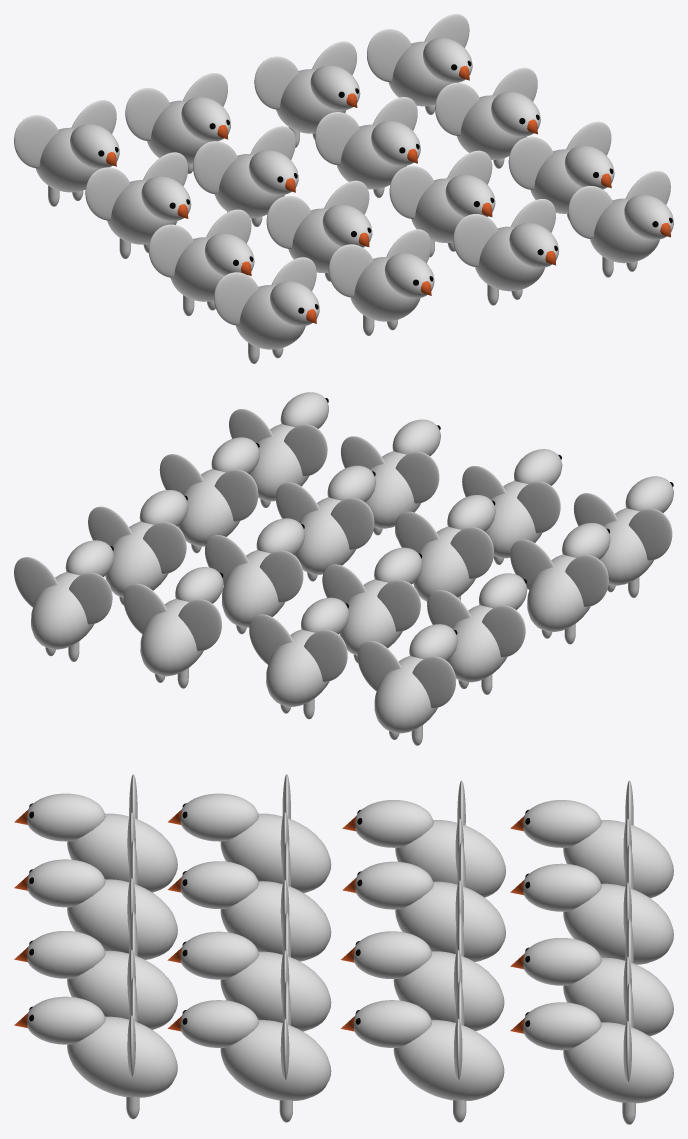
File: snow-turkey.fbx
3 views of the same model, one above another, from view 1: azimuth 30°, elevation 25°; view 2: azimuth 150°, elevation 25°; view 3: azimuth 270°, elevation 25° (orthographic). The views are drawn at different scales.
Parts seen in each view (by area): view 1: Sphere18, Sphere6, Sphere, Sphere12, Sphere54, Sphere92, Sphere60, Sphere48, Sphere73, Sphere131, Sphere118, Sphere24 (+52 smaller); view 2: Sphere92, Sphere99, Sphere118, Sphere24, Sphere131, Sphere54, Sphere73, Sphere42, Sphere36, Sphere48, Sphere30, Sphere60 (+52 smaller); view 3: Sphere, Sphere42, Sphere131, Sphere48, Sphere99, Sphere12, Sphere60, Sphere30, Sphere54, Sphere36, Sphere24, Sphere6 (+20 smaller).
Boxes of the visible parts, x1,y1,x2,y2 form: Sphere18: (236, 285, 305, 349); Sphere6: (475, 226, 544, 291); Sphere: (590, 198, 659, 263); Sphere12: (350, 257, 420, 321); Sphere54: (337, 124, 406, 189); Sphere92: (36, 127, 98, 192); Sphere60: (215, 154, 284, 218); Sphere48: (457, 95, 526, 159); Sphere73: (107, 180, 177, 244); Sphere131: (388, 41, 453, 106); Sphere118: (276, 69, 346, 133); Sphere24: (170, 237, 223, 301); Sphere92: (374, 656, 437, 733); Sphere99: (266, 629, 329, 706); Sphere118: (140, 598, 203, 676); Sphere24: (527, 554, 590, 631); Sphere131: (31, 572, 94, 649); Sphere54: (221, 550, 284, 627); Sphere73: (447, 605, 507, 682); Sphere42: (177, 469, 239, 546); Sphere36: (294, 497, 355, 574); Sphere48: (105, 521, 168, 597); Sphere30: (413, 526, 475, 601); Sphere60: (339, 579, 402, 655); Sphere: (67, 1016, 177, 1097); Sphere42: (220, 1020, 331, 1100); Sphere131: (563, 1022, 673, 1103); Sphere48: (393, 1020, 504, 1100); Sphere99: (563, 883, 673, 964); Sphere12: (67, 879, 177, 959); Sphere60: (395, 881, 505, 961); Sphere30: (220, 881, 331, 961); Sphere54: (393, 951, 504, 1031); Sphere36: (220, 951, 331, 1031); Sphere24: (220, 813, 331, 893); Sphere6: (67, 950, 177, 1029).
Size of the model in its own units: 8.31 by 1.64 by 8.68.
